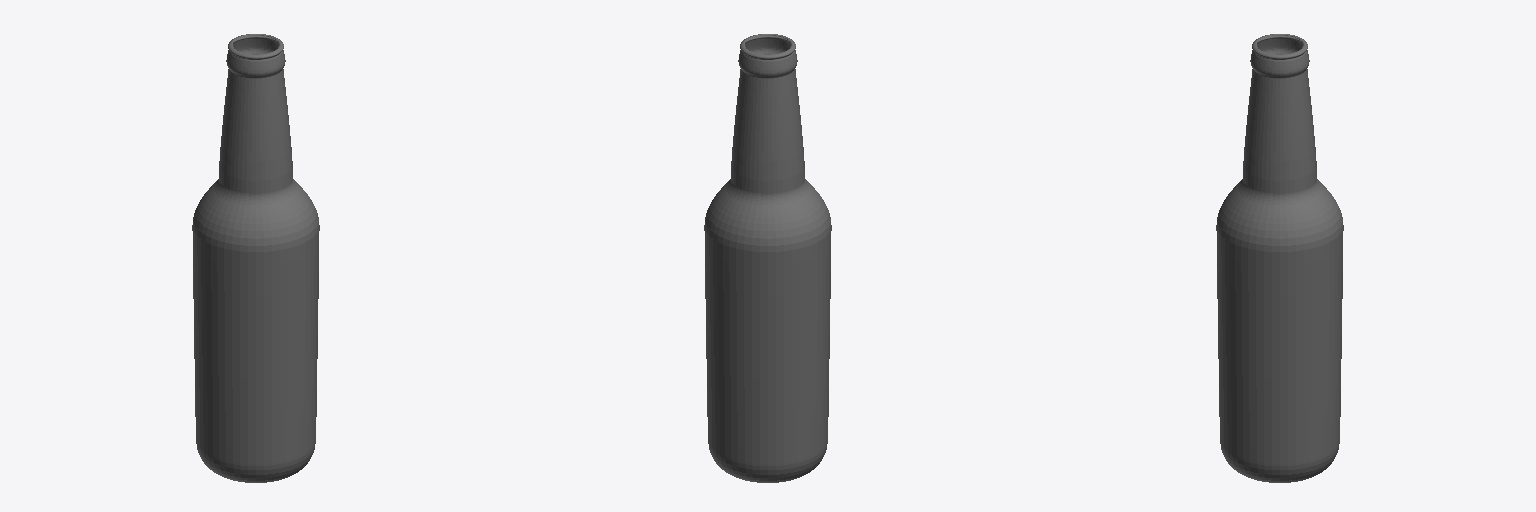
The model's file is bottle.obj.
3 renders of one model, left to right at view 1: azimuth 30°, elevation 25°; view 2: azimuth 150°, elevation 25°; view 3: azimuth 270°, elevation 25°, orthographic.
Parts seen in each view (by area): view 1: VETRO_Default_2; view 2: VETRO_Default_2; view 3: VETRO_Default_2.
Boxes of the visible parts, x1=… form: VETRO_Default_2: x1=192, y1=34, x2=319, y2=482; VETRO_Default_2: x1=704, y1=34, x2=831, y2=482; VETRO_Default_2: x1=1216, y1=34, x2=1343, y2=482.
Bounding box in the file's own units: 8.52 × 31.29 × 8.52.